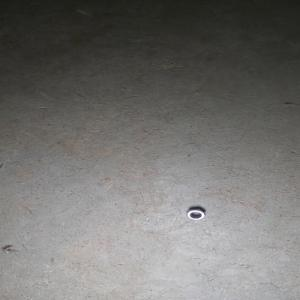Nut: (186, 208, 206, 220)
